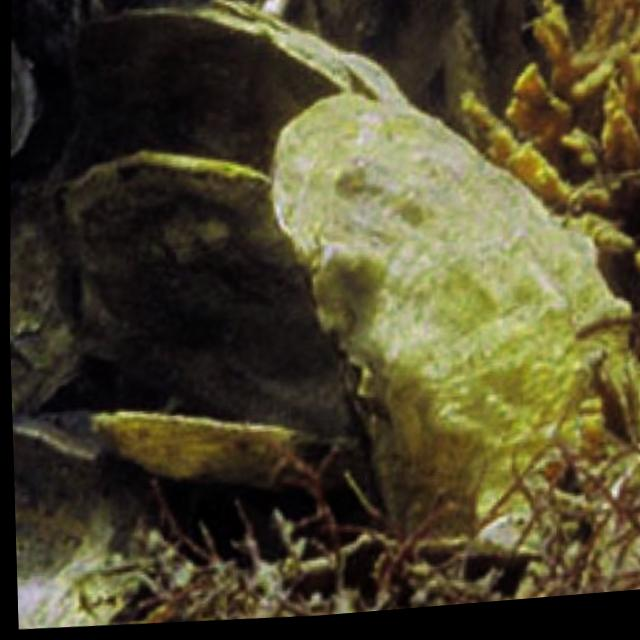Oyster-Closed: (83, 3, 419, 176)
Oyster-Indeterminate: (272, 90, 640, 540), (9, 183, 85, 436), (10, 32, 39, 155)
Oyster-Open: (73, 150, 376, 491)
